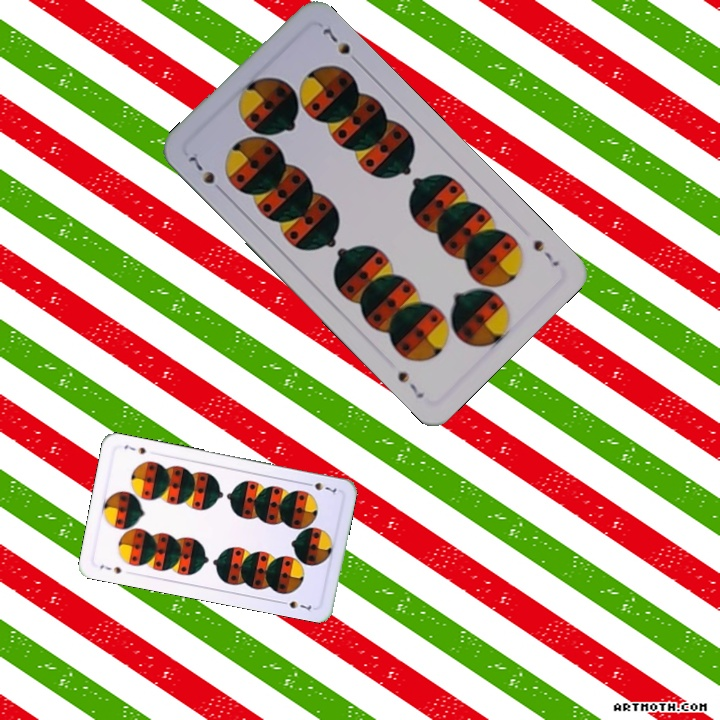S7: (184, 152, 228, 197), (529, 236, 562, 269), (301, 478, 339, 497), (96, 561, 125, 577)
